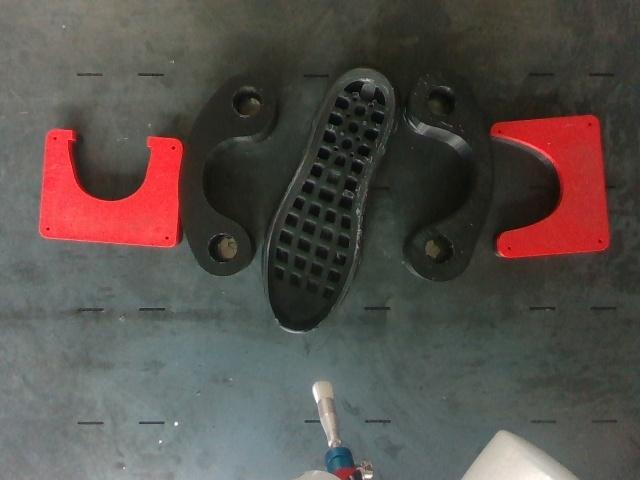shoes: (267, 69, 394, 332)
